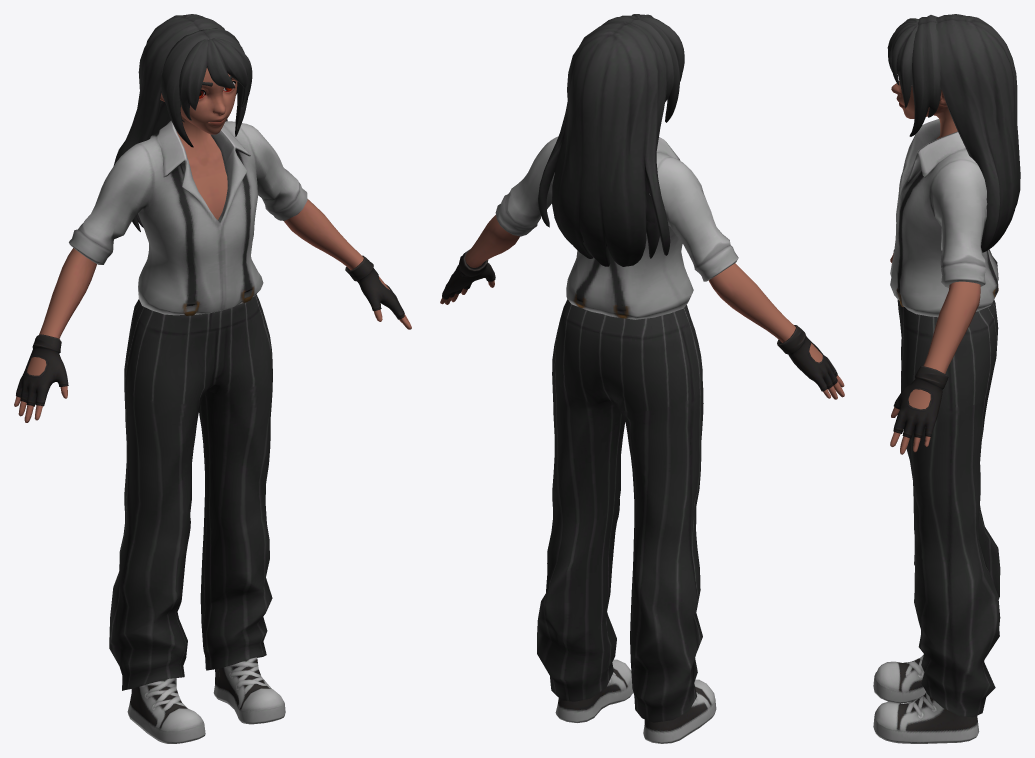
The model's file is StaffSally_Mesh.obj.
The picture shows the model from 3 angles, left to right: view 1: azimuth 30°, elevation 25°; view 2: azimuth 150°, elevation 25°; view 3: azimuth 270°, elevation 25°; orthographic projection.
Parts seen in each view (by area): view 1: StaffSally_Mesh_0; view 2: StaffSally_Mesh_0; view 3: StaffSally_Mesh_0.
Part boxes in pixels (<box>): StaffSally_Mesh_0: <box>14,14,411,743</box>; StaffSally_Mesh_0: <box>440,14,844,743</box>; StaffSally_Mesh_0: <box>873,14,1020,743</box>.
Size of the model in its own units: 1.06 by 1.8 by 0.3442.
1 material, 1 textured.
